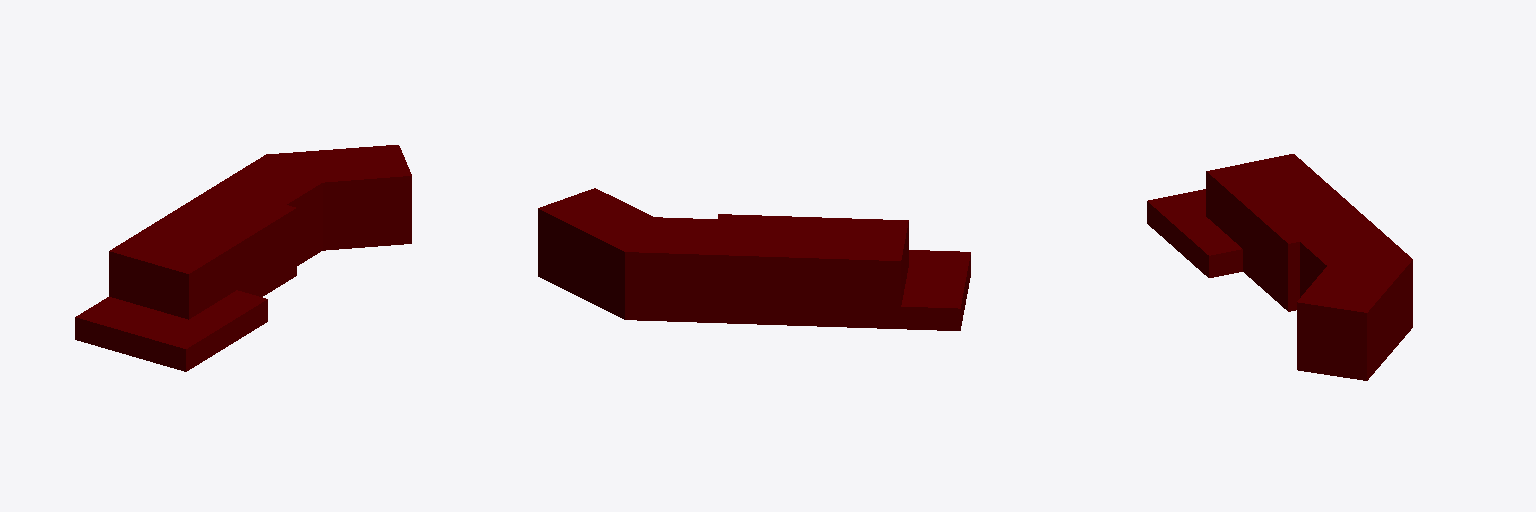
Rendered from FormatillCesium.obj.
3 renders of one model, left to right at view 1: azimuth 30°, elevation 25°; view 2: azimuth 150°, elevation 25°; view 3: azimuth 270°, elevation 25°, orthographic.
Size of the model in its own units: 68.87 by 12 by 42.57.